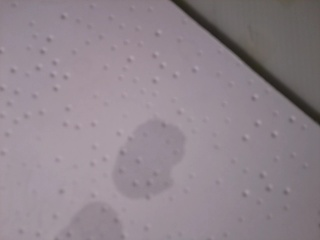Water_detected: (72, 134, 174, 240)
